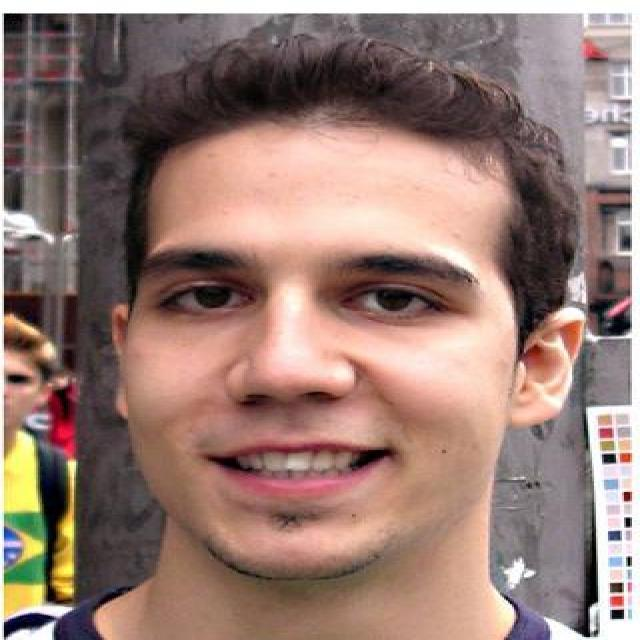Nonhelmet: (102, 28, 587, 587)
